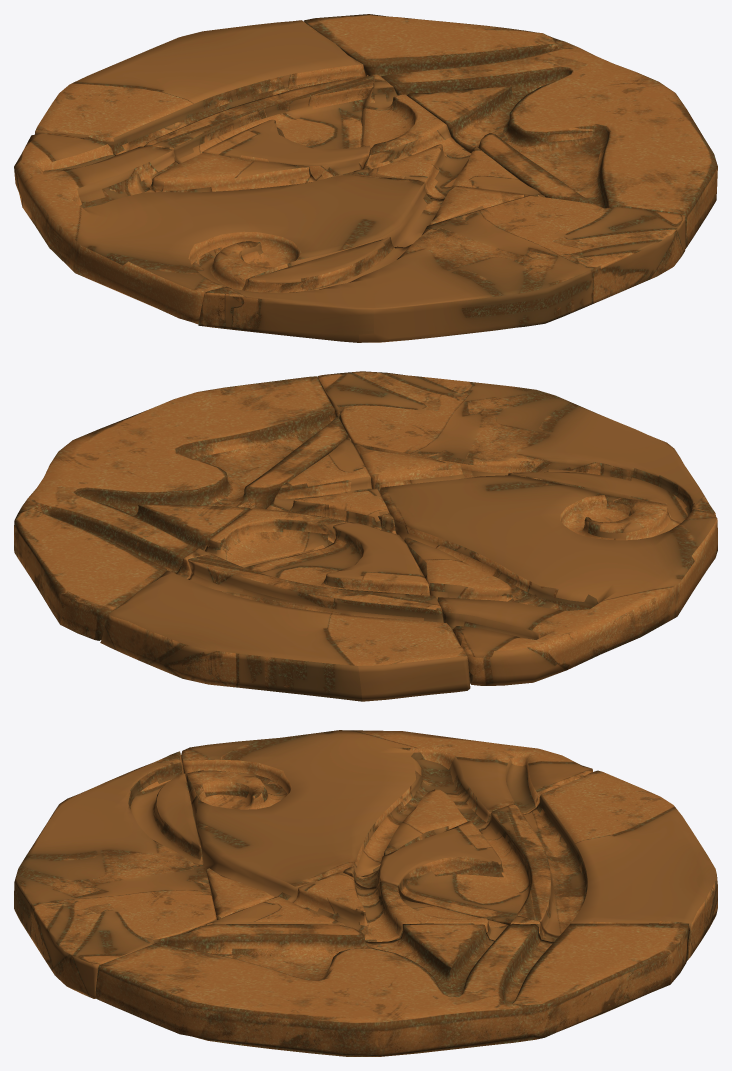
3 renders of one model, top to bottom at view 1: azimuth 30°, elevation 25°; view 2: azimuth 150°, elevation 25°; view 3: azimuth 270°, elevation 25°, orthographic.
Parts seen in each view (by area): view 1: part02, part01, part04, part06, part03; view 2: part02, part01, part06, part04, part03; view 3: part01, part02, part06, part04, part03.
Boxes of the visible parts, x1,y1,x2,y2 form: part02: (14,132,524,324); part01: (304,14,717,248); part04: (198,195,685,342); part06: (35,20,373,180); part03: (361,75,544,199); part02: (355,444,717,685); part01: (14,376,347,640); part06: (100,513,470,701); part04: (317,371,715,522); part03: (176,437,389,578); part01: (95,923,689,1056); part02: (181,730,592,919); part06: (343,770,717,960); part04: (14,751,216,998); part03: (206,871,557,941).
Size of the model in its own units: 2067 by 114 by 2082.
Materials: 5 (5 with a texture image).
